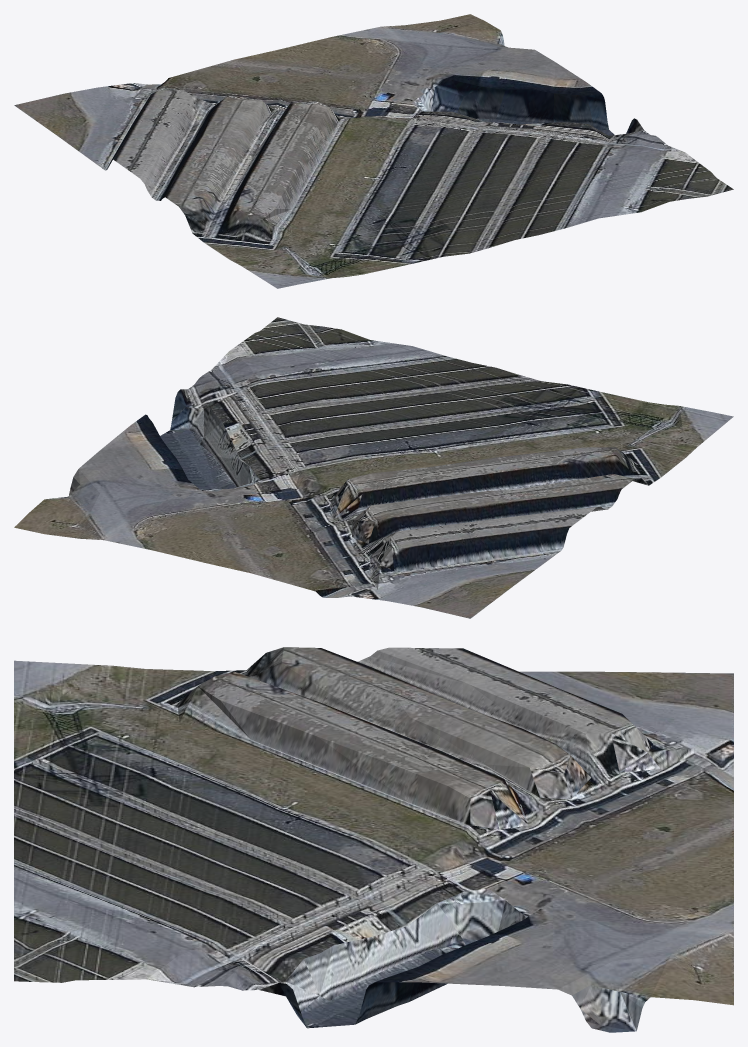
Rendered from map_15_8180_13778.dae.
The picture shows the model from 3 angles, top to bottom: view 1: azimuth 30°, elevation 25°; view 2: azimuth 150°, elevation 25°; view 3: azimuth 270°, elevation 25°; orthographic projection. The views are drawn at different scales.
Parts seen in each view (by area): view 1: Ter0; view 2: Ter0; view 3: Ter0.
Part boxes in pixels (box(x1,y1,x2,y2)): Ter0: box(14, 14, 733, 288); Ter0: box(14, 317, 733, 618); Ter0: box(14, 647, 733, 1032).
Size of the model in its own units: 63.88 by 63.88 by 8.
3 materials, 3 textured.
